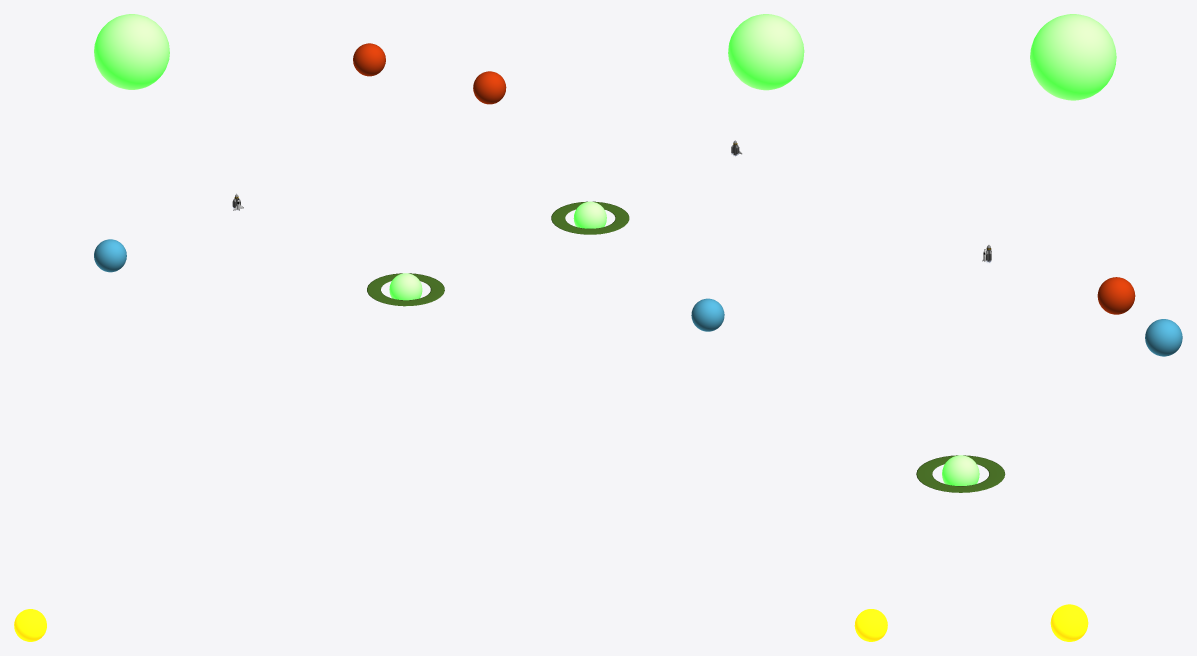
File: rocket.glb
The picture shows the model from 3 angles, left to right: view 1: azimuth 30°, elevation 25°; view 2: azimuth 150°, elevation 25°; view 3: azimuth 270°, elevation 25°; orthographic projection. The views are drawn at different scales.
Parts seen in each view (by area): view 1: Sphere, Circle, Sphere.002, Sphere.004, Sphere.001, Sphere.003; view 2: Sphere, Circle, Sphere.002, Sphere.001, Sphere.004, Sphere.003; view 3: Sphere, Circle, Sphere.002, Sphere.004, Sphere.001, Sphere.003.
Part boxes in pixels (x1,y1,x2,y2): Sphere: (94, 14, 169, 89); Circle: (367, 273, 444, 306); Sphere.002: (353, 43, 385, 76); Sphere.004: (14, 609, 46, 641); Sphere.001: (94, 239, 126, 272); Sphere.003: (389, 273, 422, 306); Sphere: (728, 14, 804, 90); Circle: (551, 201, 629, 234); Sphere.002: (473, 71, 506, 104); Sphere.001: (691, 298, 724, 331); Sphere.004: (854, 609, 887, 641); Sphere.003: (573, 201, 606, 228); Sphere: (1030, 14, 1116, 100); Circle: (916, 455, 1005, 492); Sphere.002: (1097, 277, 1135, 314); Sphere.004: (1050, 604, 1088, 641); Sphere.001: (1145, 319, 1182, 356); Sphere.003: (942, 455, 979, 485).
Bounding box in the file's own units: 466 × 685 × 243.
